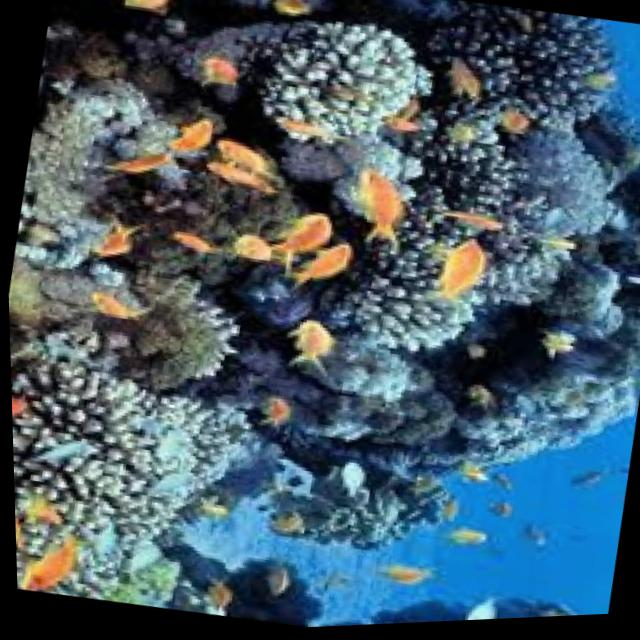Dead Coral: (256, 420, 474, 597), (353, 196, 501, 368), (470, 3, 634, 150)
